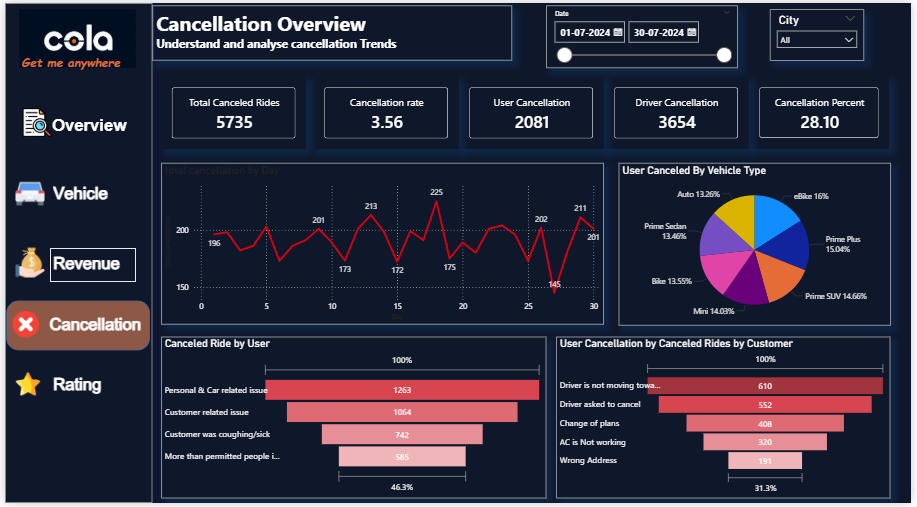

This screenshot's page, from the dashboard's own definition file:
{"tool":"powerbi","page":{"name":"Cancellation ","canvas":[1450,800],"ordinal":3},"visuals":[{"type":"shape","box":[0,0,235.7,800],"z":0},{"type":"shape","box":[2,476,230,80],"z":1000},{"type":"image","box":[10,10,211.7,93.3],"z":2000},{"type":"textbox","box":[0,75,211.7,36.7],"z":3000},{"type":"textbox","box":[58.3,176.7,153.3,53.3],"z":4000},{"type":"image","box":[28.3,168.3,46.7,46.7],"z":5000},{"type":"textbox","box":[71.7,280,138.3,55],"z":6000},{"type":"image","box":[16.7,265,48.3,78.3],"z":7000},{"type":"textbox","box":[72,392,138,54],"z":8000},{"type":"image","box":[16,376,48,78],"z":9000},{"type":"textbox","box":[65,490,163.3,51.7],"z":10000},{"type":"image","box":[12,480,42,68],"z":11000},{"type":"textbox","box":[71.7,585,160,51.7],"z":12000},{"type":"image","box":[16.7,576.7,41.7,66.7],"z":13000},{"type":"cardVisual","fields":{"Data":["July.canceledPercentage"]},"box":[1190,118.3,225,115],"z":14000},{"type":"cardVisual","fields":{"Data":["July.Driver Cancellation"]},"box":[958,118,232,116],"z":15000},{"type":"cardVisual","fields":{"Data":["July.total cancellation"]},"box":[250,118,232,116],"z":16000},{"type":"cardVisual","fields":{"Data":["July.Cancellation rate"]},"box":[494,118,232,116],"z":17000},{"type":"cardVisual","fields":{"Data":["July.User Cancellation"]},"box":[726,118,232,116],"z":18000},{"type":"lineChart","fields":{"Category":["July.Date.Variation.Date Hierarchy.Day"],"Y":["July.total cancellation"]},"box":[250,256,708,258],"z":19000},{"type":"slicer","fields":{"Values":["July.Date"]},"box":[866.7,3.3,306.7,100],"z":20000},{"type":"slicer","fields":{"Values":["July.Pickup_Location"]},"box":[1224,10,150,82],"z":21000},{"type":"textbox","box":[235,3.3,575,88.3],"z":22000},{"type":"funnel","title":"User cancellation ","fields":{"Category":["July.Canceled_Rides_by_Customer"],"Y":["July.User Cancellation"]},"box":[882,534,534,258],"z":23000},{"type":"funnel","title":"Canceled Ride by Driver","fields":{"Category":["July.Canceled_Rides_by_Driver"],"Y":["July.Driver Cancellation"]},"box":[250,534,616,258],"z":24000},{"type":"pieChart","title":"User Canceled By Vehicle Type","fields":{"Y":["July.User Cancellation"],"Category":["July.Vehicle_Type"]},"box":[982.5,255,435,260],"z":25000}]}

Visuals, with their boxes on the page's 1450x800 design canvas (x1, y1, x2, y2). These are canvas units, not pixel positions in the 917x507 screenshot, which may show the page scaled, cropped or inside an application window:
shape: 0,0,236,800
shape: 2,476,232,556
image: 10,10,222,103
textbox: 0,75,212,112
textbox: 58,177,212,230
image: 28,168,75,215
textbox: 72,280,210,335
image: 17,265,65,343
textbox: 72,392,210,446
image: 16,376,64,454
textbox: 65,490,228,542
image: 12,480,54,548
textbox: 72,585,232,637
image: 17,577,58,643
cardVisual - July.canceledPercentage: 1190,118,1415,233
cardVisual - July.Driver Cancellation: 958,118,1190,234
cardVisual - July.total cancellation: 250,118,482,234
cardVisual - July.Cancellation rate: 494,118,726,234
cardVisual - July.User Cancellation: 726,118,958,234
lineChart - July.Date.Variation.Date Hierarchy.Day x July.total cancellation: 250,256,958,514
slicer - July.Date: 867,3,1173,103
slicer - July.Pickup_Location: 1224,10,1374,92
textbox: 235,3,810,92
"User cancellation " funnel: 882,534,1416,792
"Canceled Ride by Driver" funnel: 250,534,866,792
"User Canceled By Vehicle Type" pieChart: 982,255,1418,515
